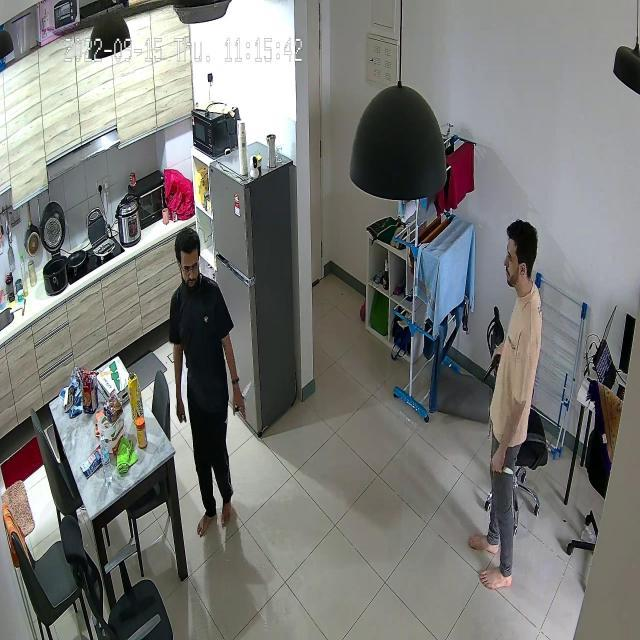Knife: (232, 362, 262, 417)
